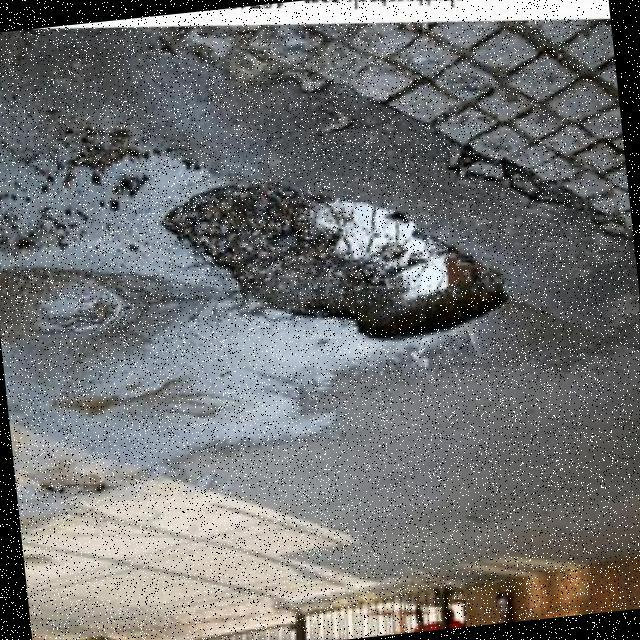Pothole: (161, 181, 509, 339), (24, 464, 108, 496)
